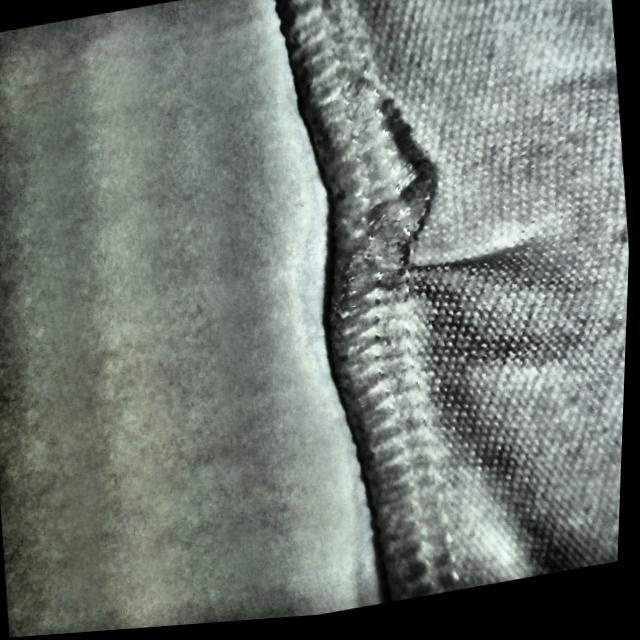seam: (300, 84, 541, 337)
